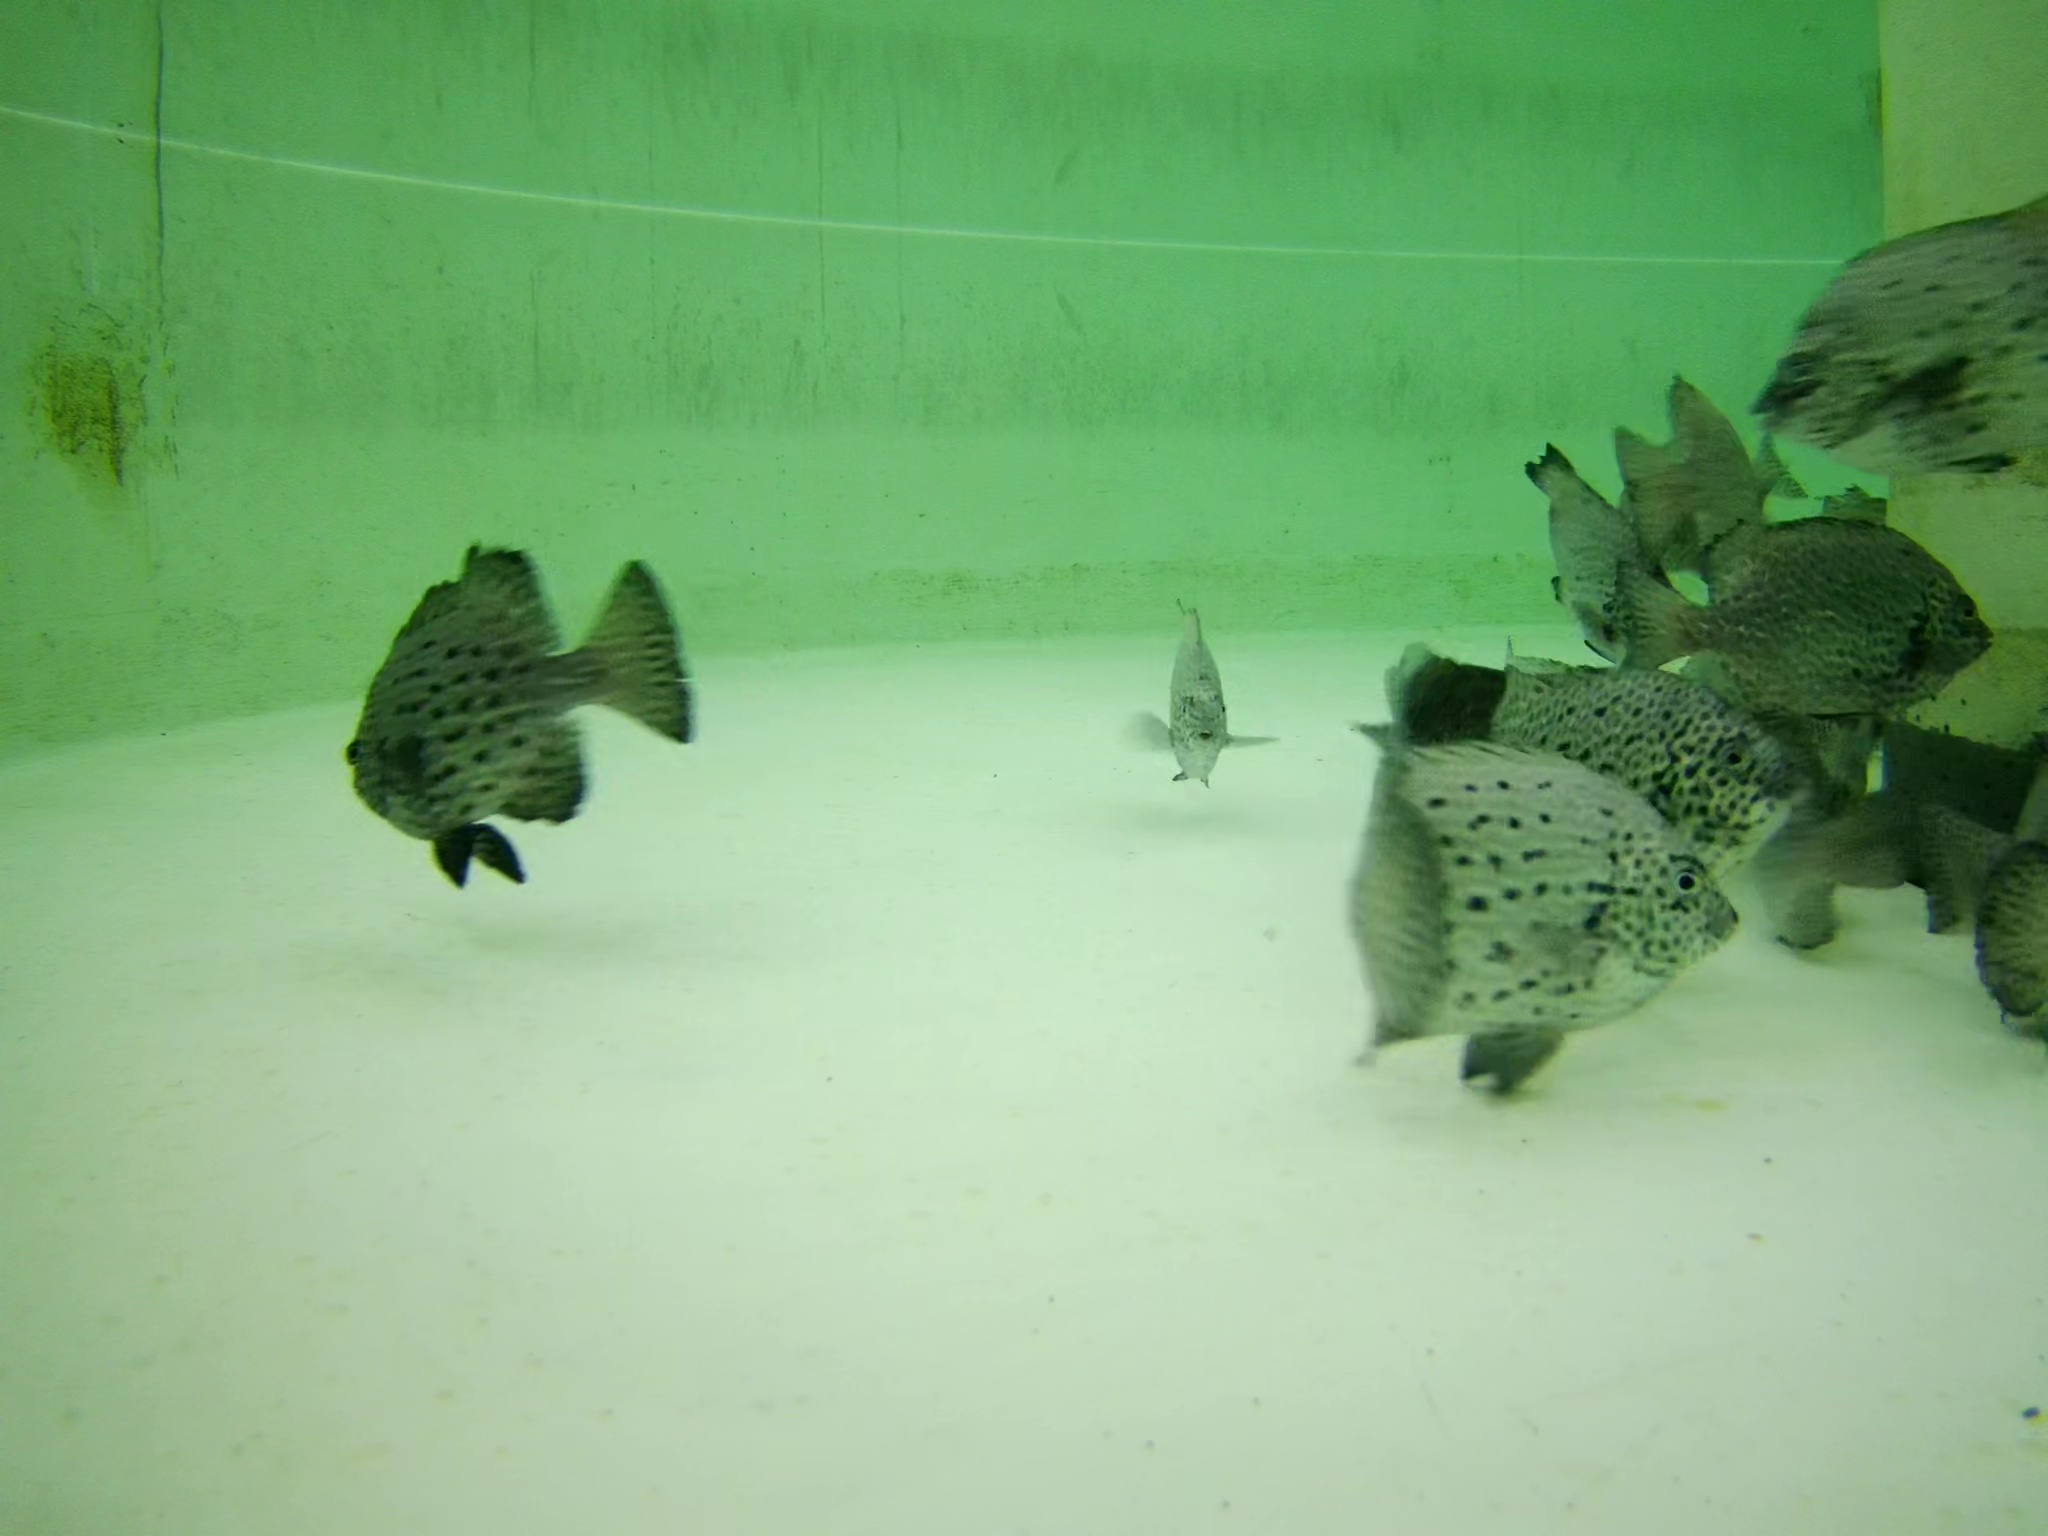fish: (1338, 744, 1742, 1054), (347, 531, 697, 881), (1751, 187, 2048, 499), (1495, 666, 1825, 913), (1606, 516, 1998, 710), (1598, 387, 1800, 553), (1763, 779, 1964, 944), (1119, 599, 1288, 792), (1527, 449, 1663, 642), (1356, 647, 1517, 752), (1983, 849, 2048, 1012)
